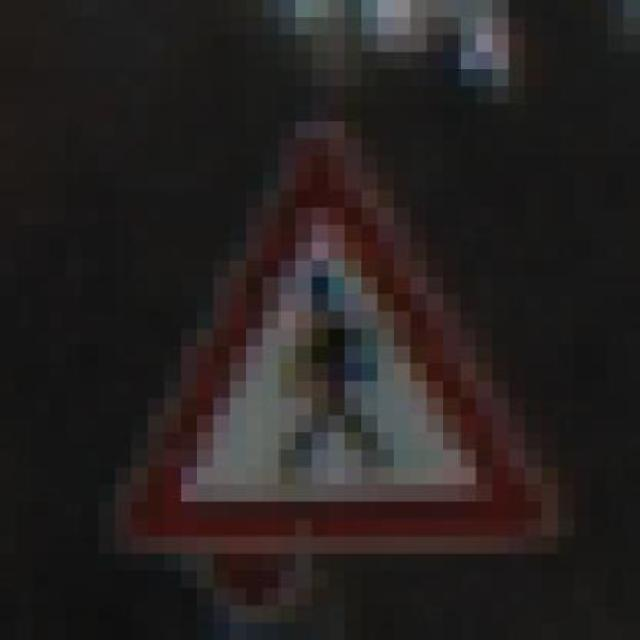Pedestrian Crossing: (82, 120, 575, 572)
